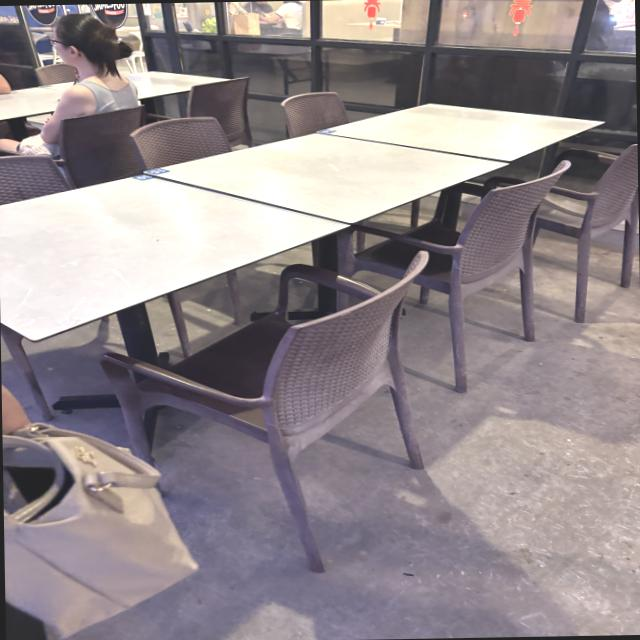Chair: (89, 239, 450, 593), (316, 152, 583, 405)
